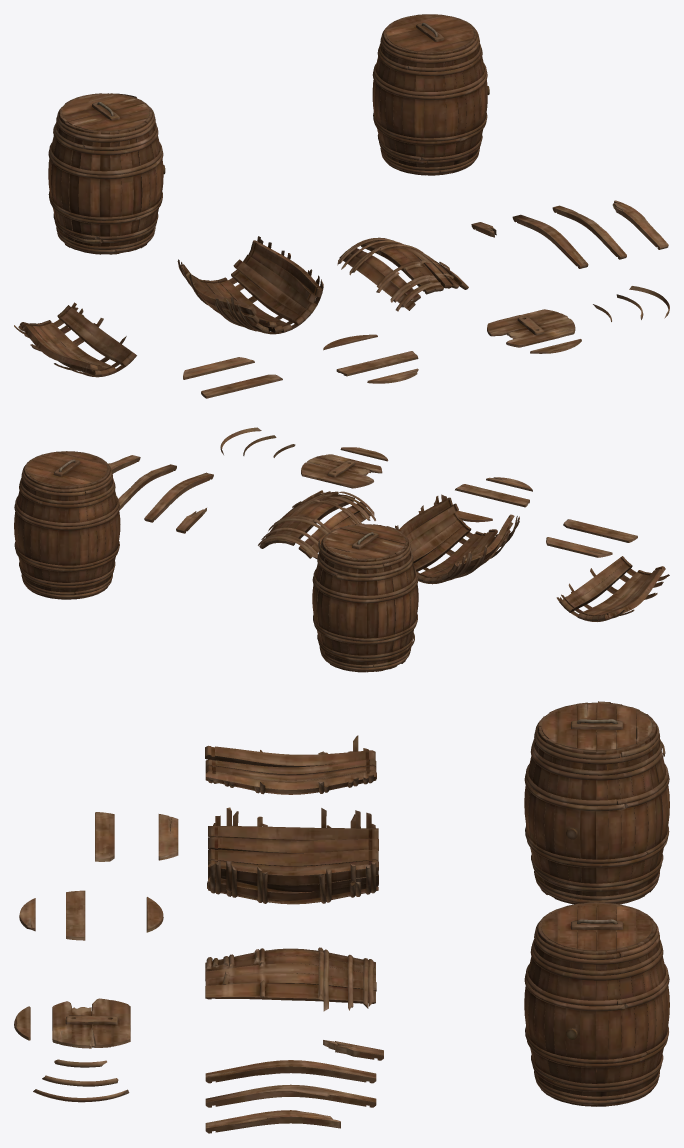
Rendered from wooden_barrels_01.glb.
The picture shows the model from 3 angles, top to bottom: view 1: azimuth 30°, elevation 25°; view 2: azimuth 150°, elevation 25°; view 3: azimuth 270°, elevation 25°; orthographic projection. The views are drawn at different scales.
Parts seen in each view (by area): view 1: wooden_barrels_01_piece01, wooden_barrels_01_barrel02, wooden_barrels_01_barrel01; view 2: wooden_barrels_01_piece01, wooden_barrels_01_barrel02, wooden_barrels_01_barrel01; view 3: wooden_barrels_01_piece01, wooden_barrels_01_barrel01, wooden_barrels_01_barrel02.
Part boxes in pixels (bbox=[...]): wooden_barrels_01_piece01: bbox=[14, 200, 669, 398]; wooden_barrels_01_barrel02: bbox=[48, 93, 165, 254]; wooden_barrels_01_barrel01: bbox=[372, 14, 489, 175]; wooden_barrels_01_piece01: bbox=[108, 427, 669, 621]; wooden_barrels_01_barrel02: bbox=[312, 523, 418, 672]; wooden_barrels_01_barrel01: bbox=[14, 451, 120, 599]; wooden_barrels_01_piece01: bbox=[14, 735, 383, 1133]; wooden_barrels_01_barrel01: bbox=[524, 902, 669, 1106]; wooden_barrels_01_barrel02: bbox=[524, 701, 669, 904].
Size of the model in its own units: 4.44 by 0.9568 by 3.34.
3 materials, 3 textured.
